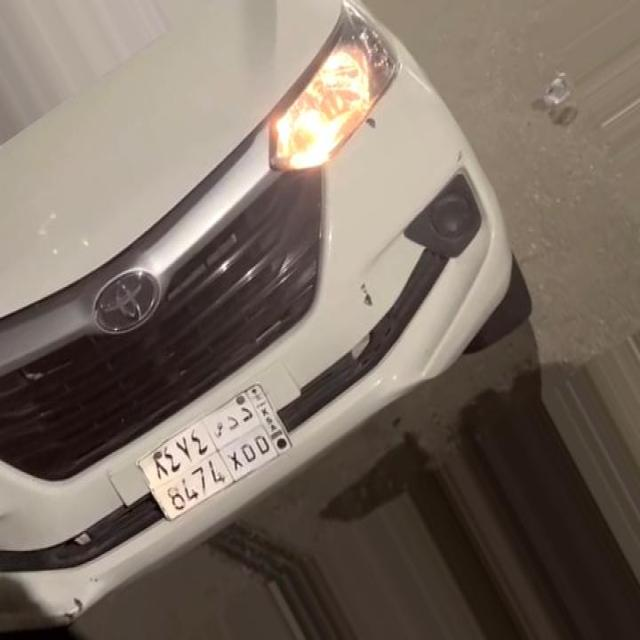Car-plate: (118, 364, 308, 550)
